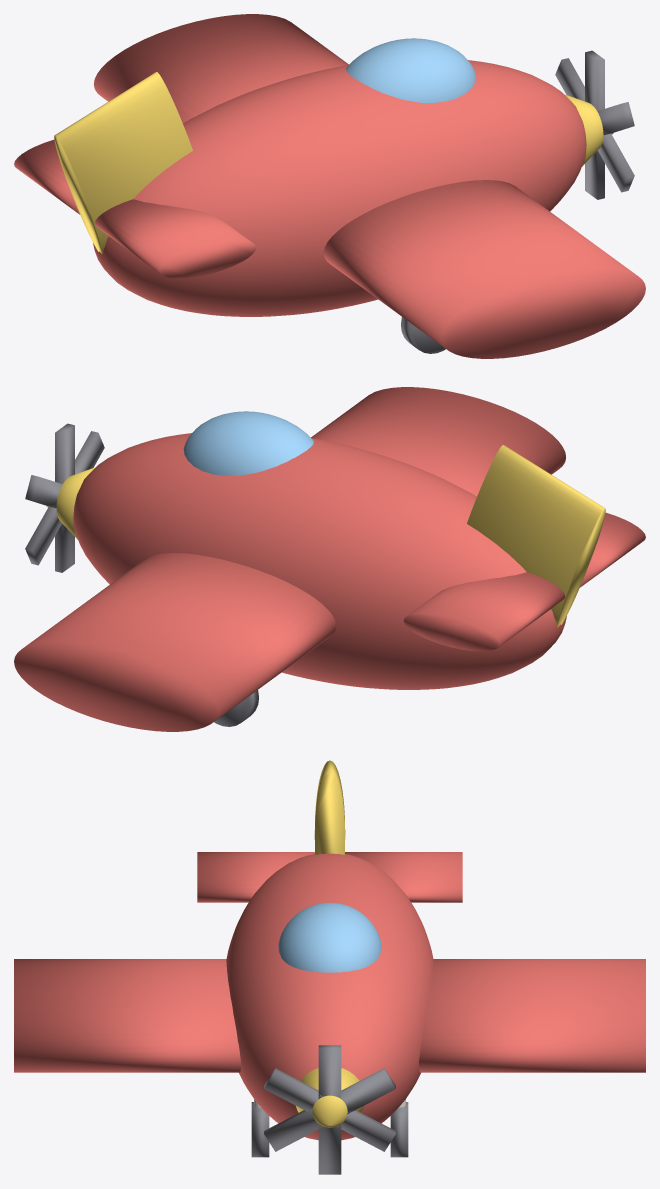
3 renders of one model, top to bottom at view 1: azimuth 30°, elevation 25°; view 2: azimuth 150°, elevation 25°; view 3: azimuth 270°, elevation 25°, orthographic. The views are drawn at different scales.
Visible parts, largest first — view 1: Sphere; view 2: Sphere; view 3: Sphere.
Boxes of the visible parts, x1,y1,x2,y2 form: Sphere: (14,14,645,358); Sphere: (14,387,645,731); Sphere: (14,760,645,1174).
Size of the model in its own units: 4.76 by 2.44 by 5.
